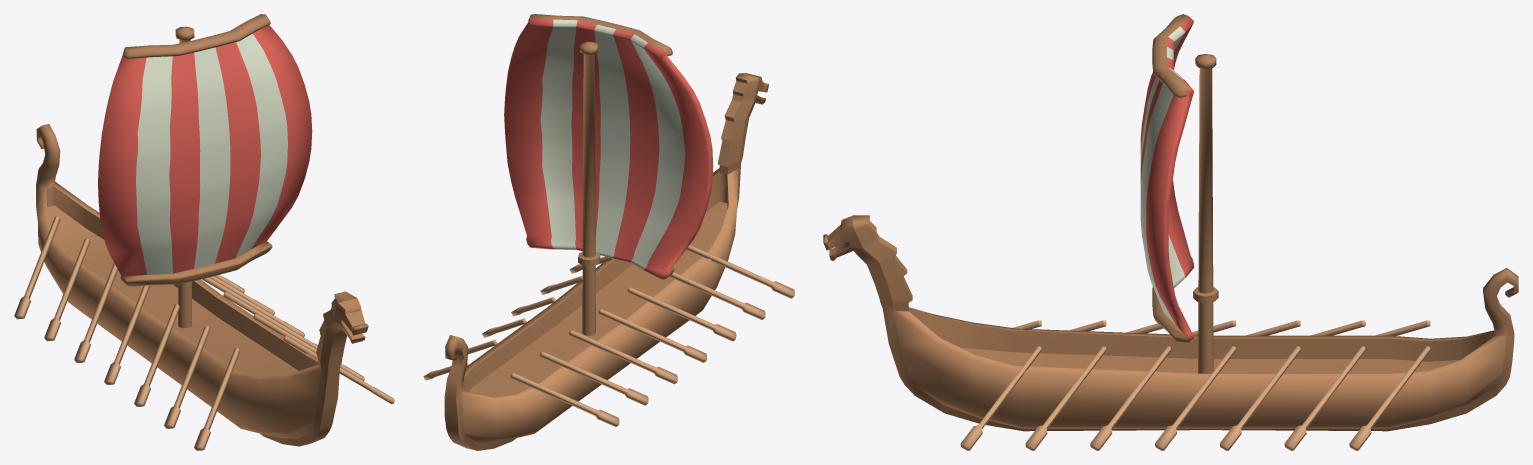
File: viking-ship2.glb
3 views of the same model, side by side, from view 1: azimuth 30°, elevation 25°; view 2: azimuth 150°, elevation 25°; view 3: azimuth 270°, elevation 25° (orthographic). The views are drawn at different scales.
Parts seen in each view (by area): view 1: Sail, Viking Ship; view 2: Sail, Viking Ship; view 3: Viking Ship, Sail.
Part boxes in pixels (x1,y1,x2,y2): Sail: (98, 14, 312, 286); Viking Ship: (14, 26, 394, 450); Sail: (504, 14, 713, 279); Viking Ship: (423, 41, 794, 450); Viking Ship: (823, 54, 1518, 450); Sail: (1140, 14, 1194, 342).
Bounding box in the file's own units: 1.62 × 2.51 × 4.2.
